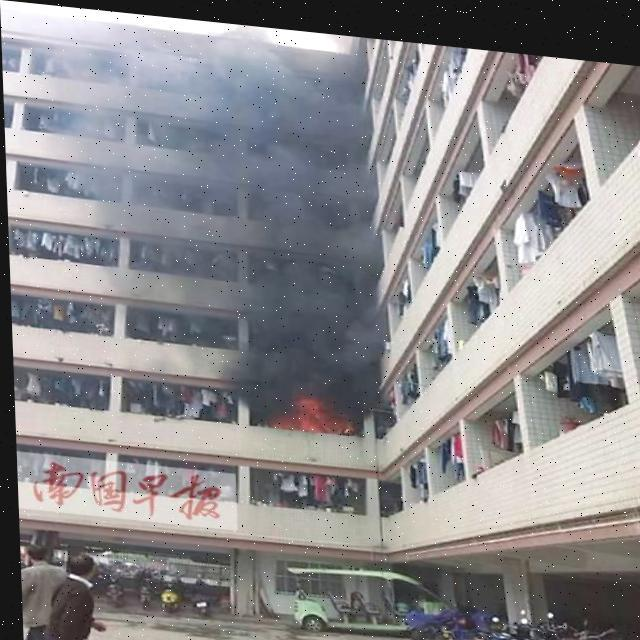Fire: (240, 374, 360, 432)
